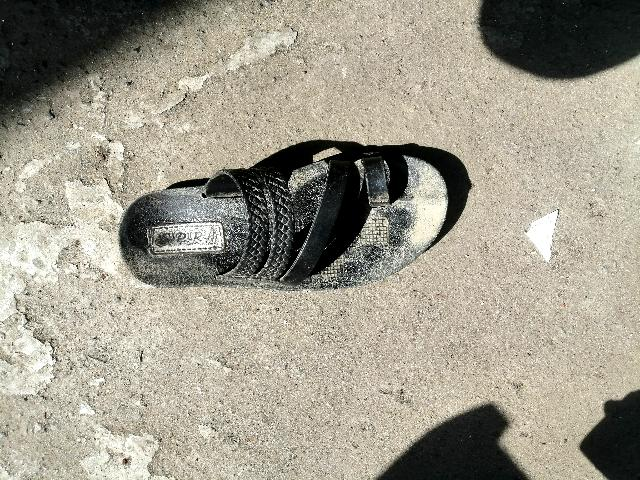sandal: (93, 151, 452, 297)
